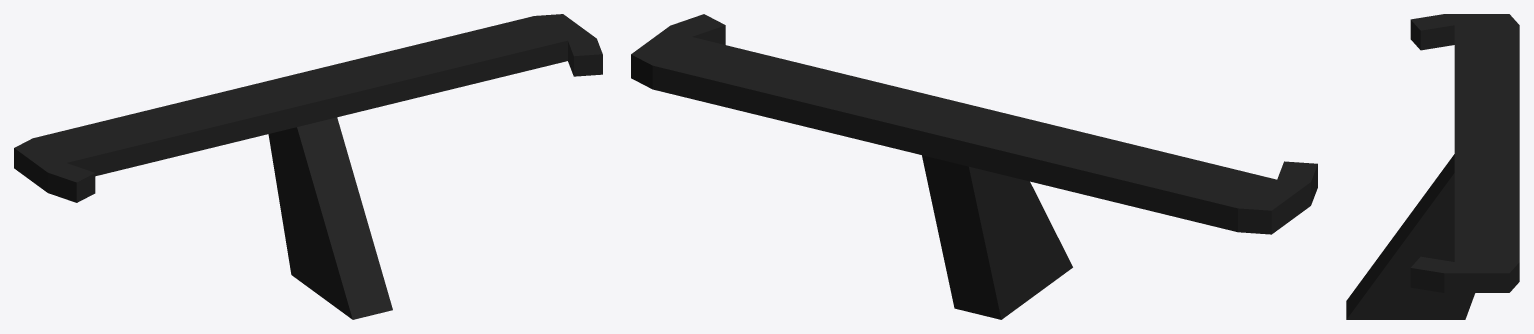
Rendered from spoiler1.glb.
3 views of the same model, side by side, from view 1: azimuth 30°, elevation 25°; view 2: azimuth 150°, elevation 25°; view 3: azimuth 270°, elevation 25° (orthographic). The views are drawn at different scales.
Parts seen in each view (by area): view 1: spoiler1; view 2: spoiler1; view 3: spoiler1.
Part boxes in pixels (x1=…): spoiler1: x1=14, y1=14, x2=602, y2=319; spoiler1: x1=631, y1=14, x2=1317, y2=319; spoiler1: x1=1346, y1=14, x2=1519, y2=319.
Bounding box in the file's own units: 0.9311 × 0.2793 × 0.2629.
1 material, 1 textured.
